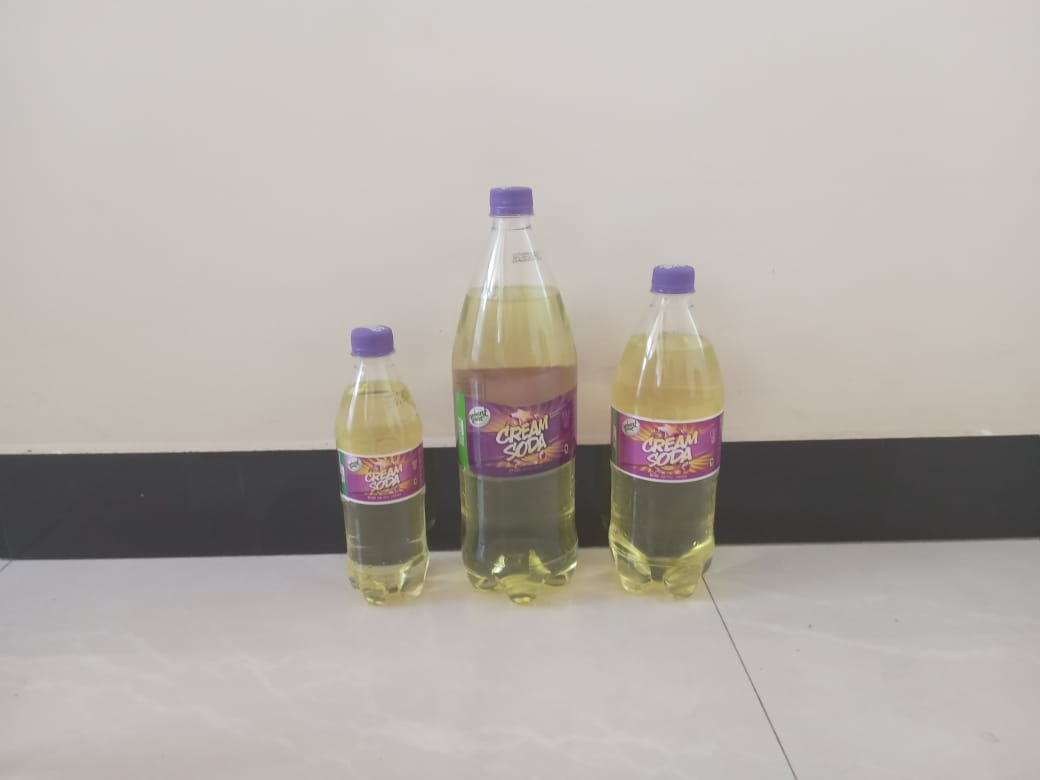L: (451, 187, 584, 604)
M: (607, 262, 725, 602)
S: (333, 324, 435, 609)
